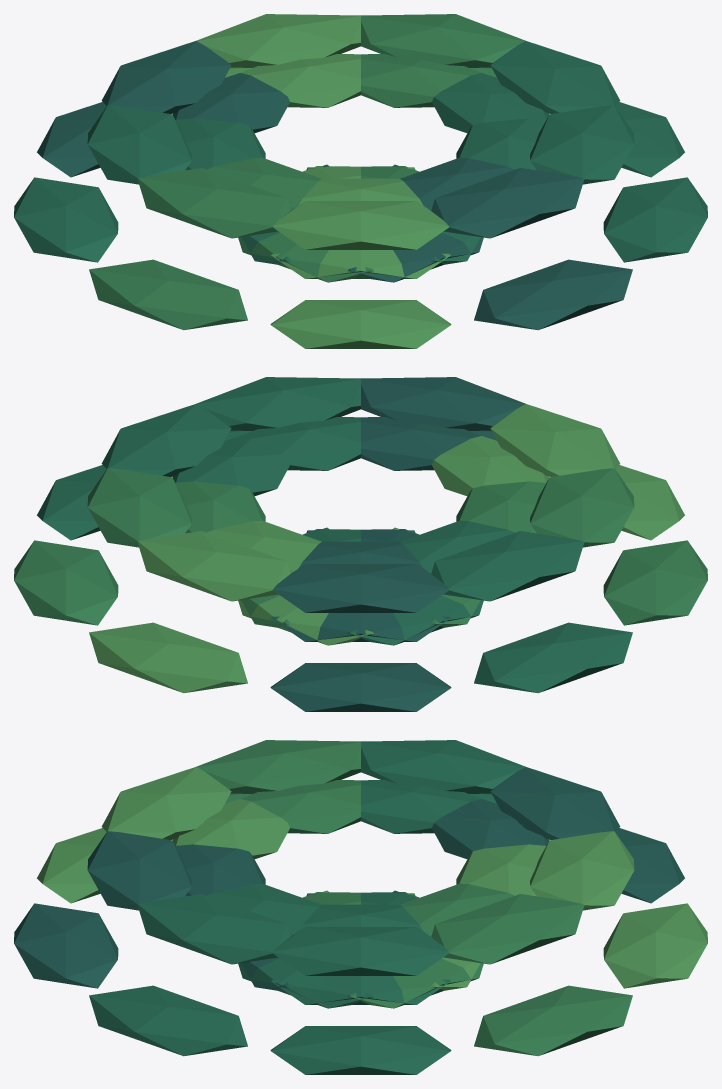
The model's file is fern.glb.
3 renders of one model, top to bottom at view 1: azimuth 30°, elevation 25°; view 2: azimuth 150°, elevation 25°; view 3: azimuth 270°, elevation 25°, orthographic.
Parts seen in each view (by area): view 1: fern; view 2: fern; view 3: fern.
Part boxes in pixels (box(x1,y1,x2,y2)): fern: box(14, 14, 707, 348); fern: box(14, 377, 707, 711); fern: box(14, 740, 707, 1074).
Bounding box in the file's own units: 1.11 × 0.2137 × 1.11.
